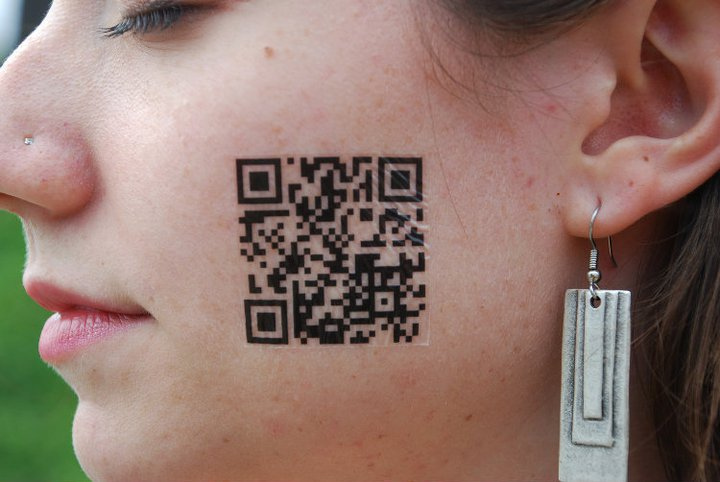QR-CODE: (236, 156, 426, 344)
